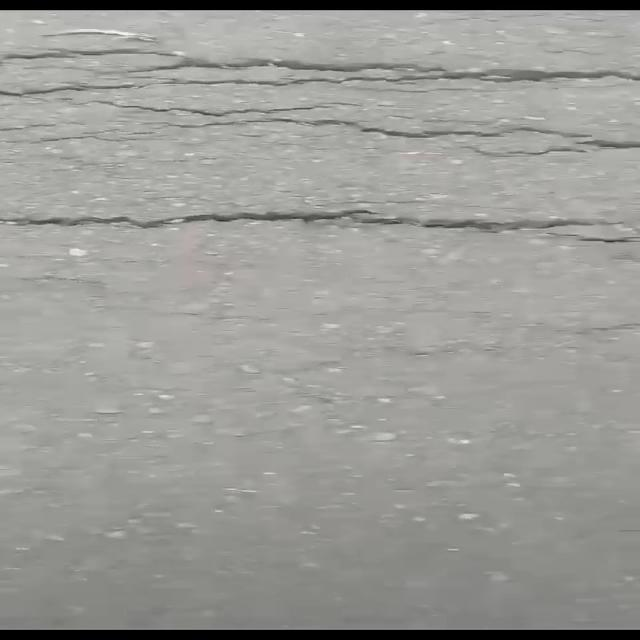Melintang: (99, 96, 640, 165), (0, 38, 640, 90), (0, 203, 640, 248)
